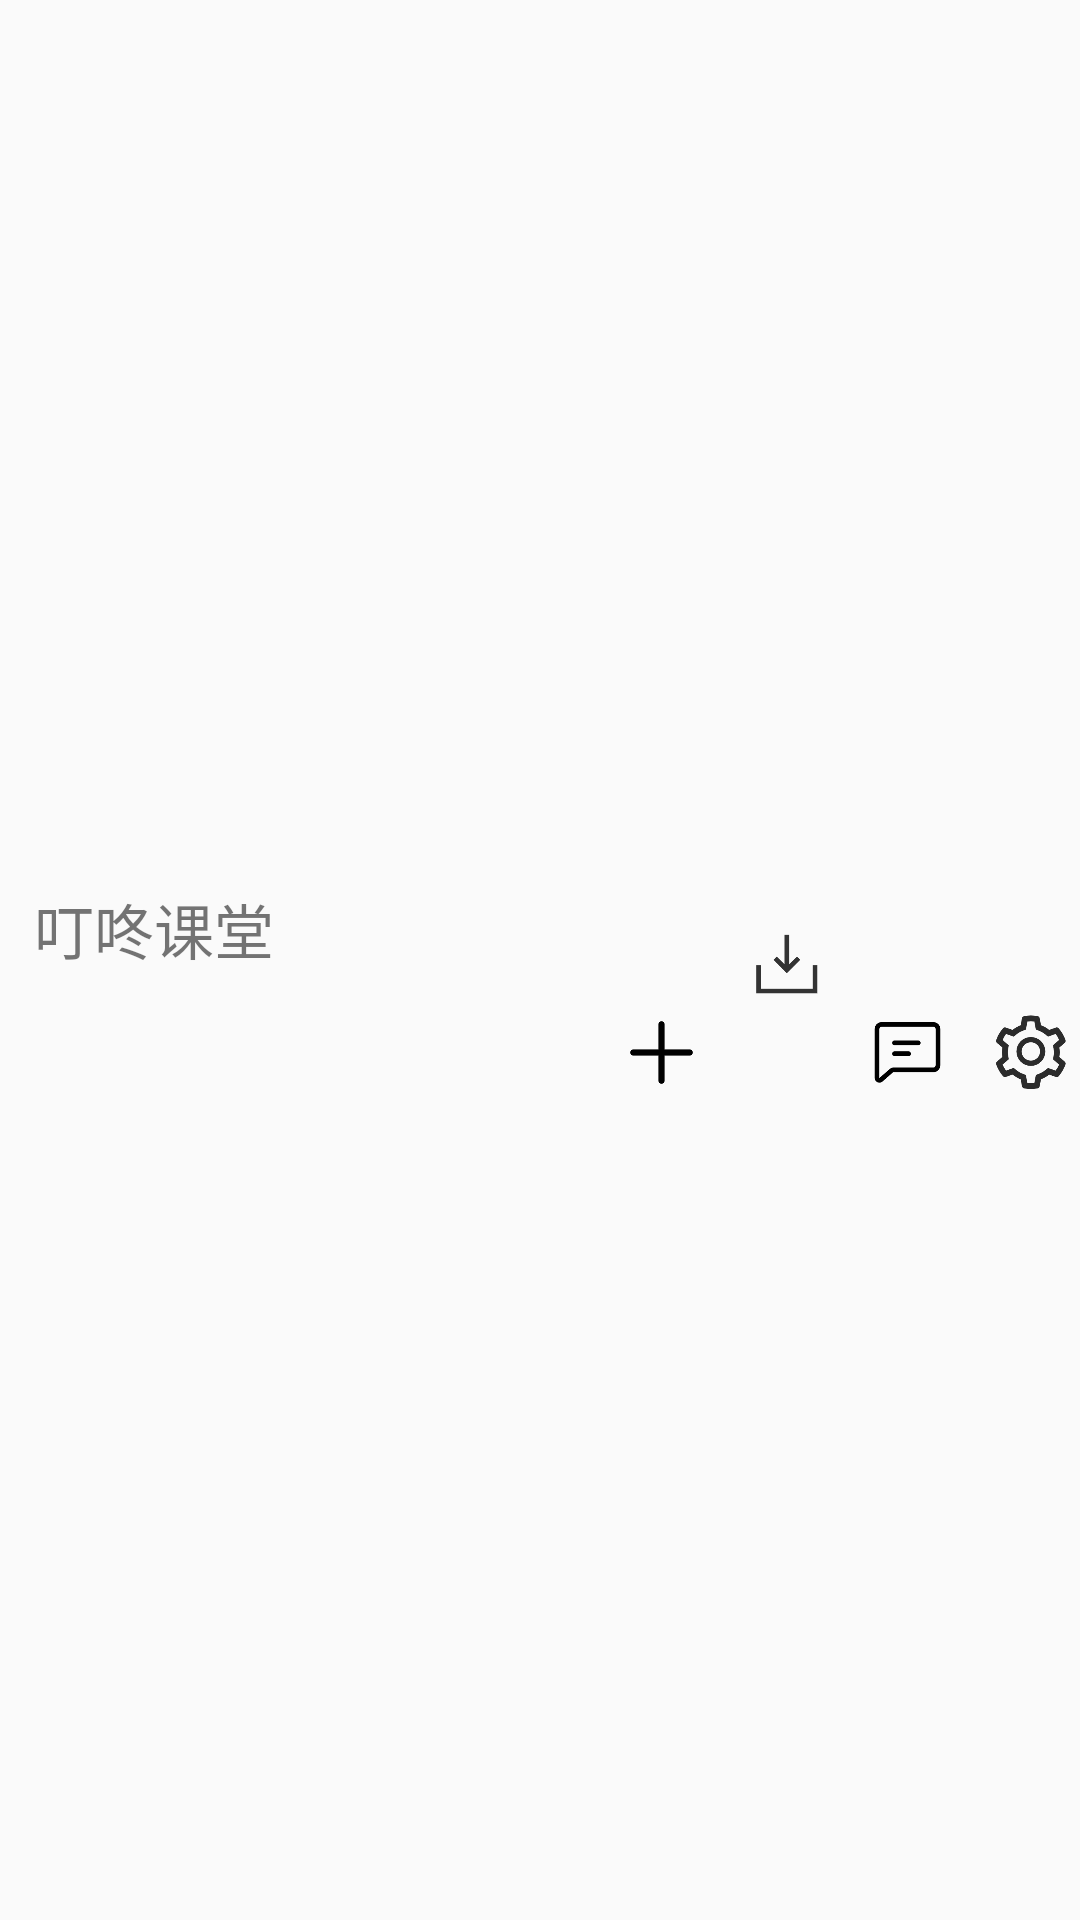

Icon bounding boxes for this 1080 x 1920 phone screenshot, format {"x1": x1, "y1": y1, "x2": x2, "y2": y2}:
chat: {"x1": 874, "y1": 1022, "x2": 941, "y2": 1083}
import: {"x1": 756, "y1": 934, "x2": 818, "y2": 994}
plus: {"x1": 630, "y1": 1021, "x2": 693, "y2": 1084}
settings: {"x1": 996, "y1": 1015, "x2": 1066, "y2": 1089}
